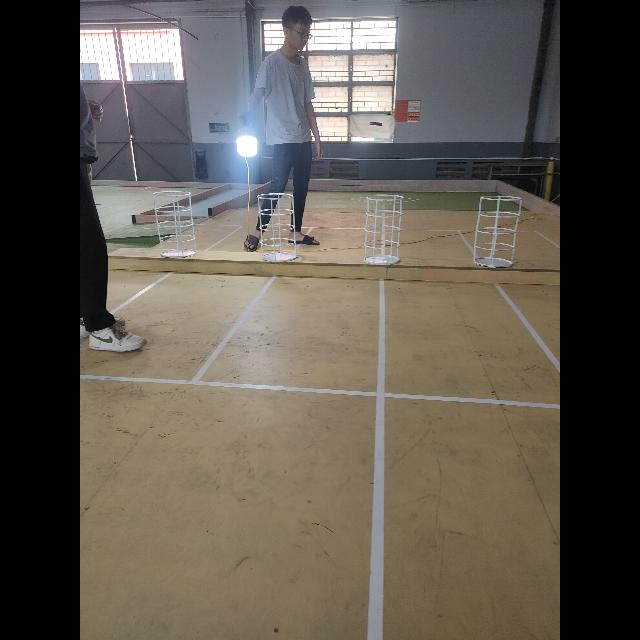S: (471, 194, 526, 270), (362, 193, 406, 268), (152, 189, 198, 260), (256, 191, 298, 263)
